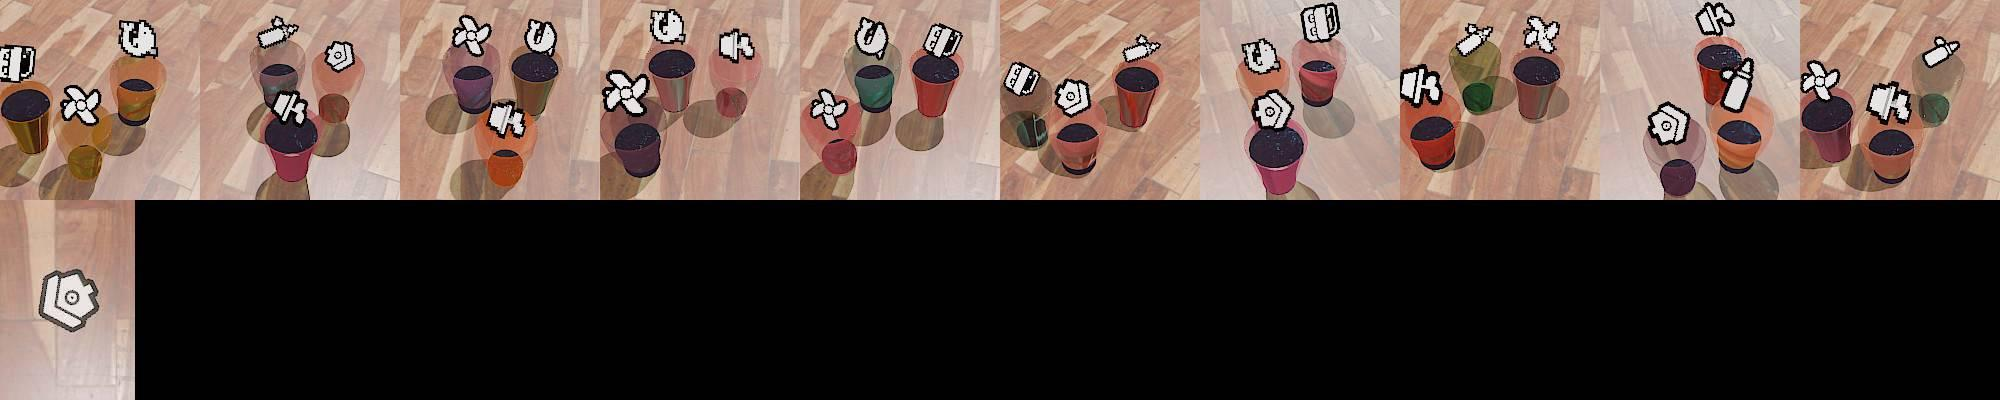icon: (37, 267, 101, 333), (1718, 54, 1757, 117), (601, 68, 651, 117), (1647, 100, 1691, 146), (1864, 82, 1911, 125), (1401, 63, 1445, 108), (451, 14, 492, 58), (117, 18, 160, 59), (58, 84, 102, 124), (809, 88, 850, 130), (1300, 2, 1341, 44), (1251, 89, 1294, 129), (1800, 59, 1841, 100), (486, 98, 528, 138), (1053, 74, 1091, 117), (1523, 14, 1563, 54), (922, 21, 963, 60), (853, 16, 889, 60), (1241, 37, 1281, 75), (0, 44, 38, 84), (1454, 21, 1495, 58), (256, 15, 299, 50), (649, 8, 687, 46), (1696, 1, 1736, 37), (717, 27, 757, 63), (271, 89, 310, 125), (523, 18, 559, 56), (1003, 61, 1040, 97), (1922, 36, 1961, 68), (1121, 34, 1160, 65), (322, 40, 355, 73)
